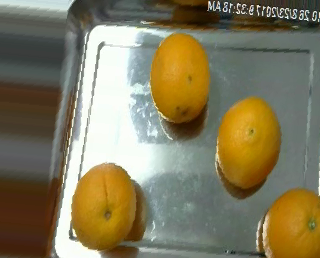Orange: (215, 95, 283, 190), (70, 163, 137, 250), (149, 32, 208, 123), (261, 187, 320, 256)
